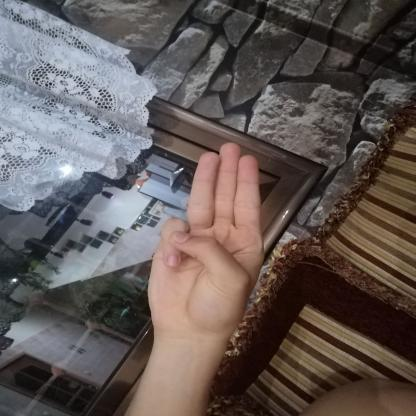THA: (126, 128, 274, 344)
